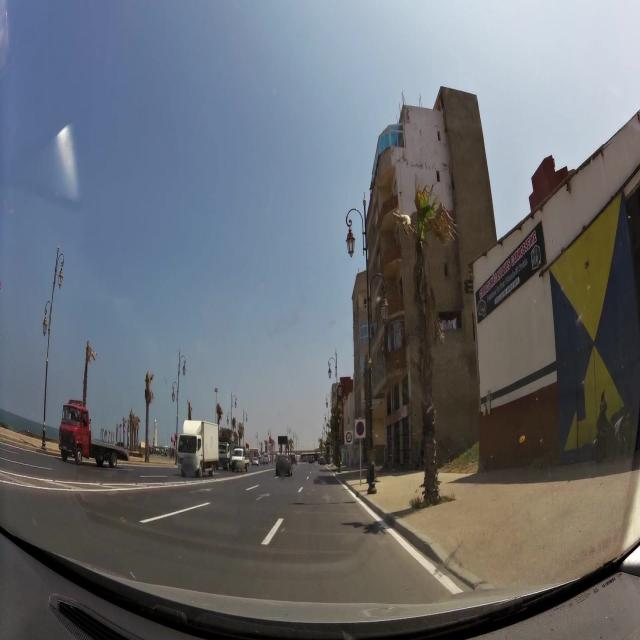forb_stopping: (356, 422, 364, 436)
